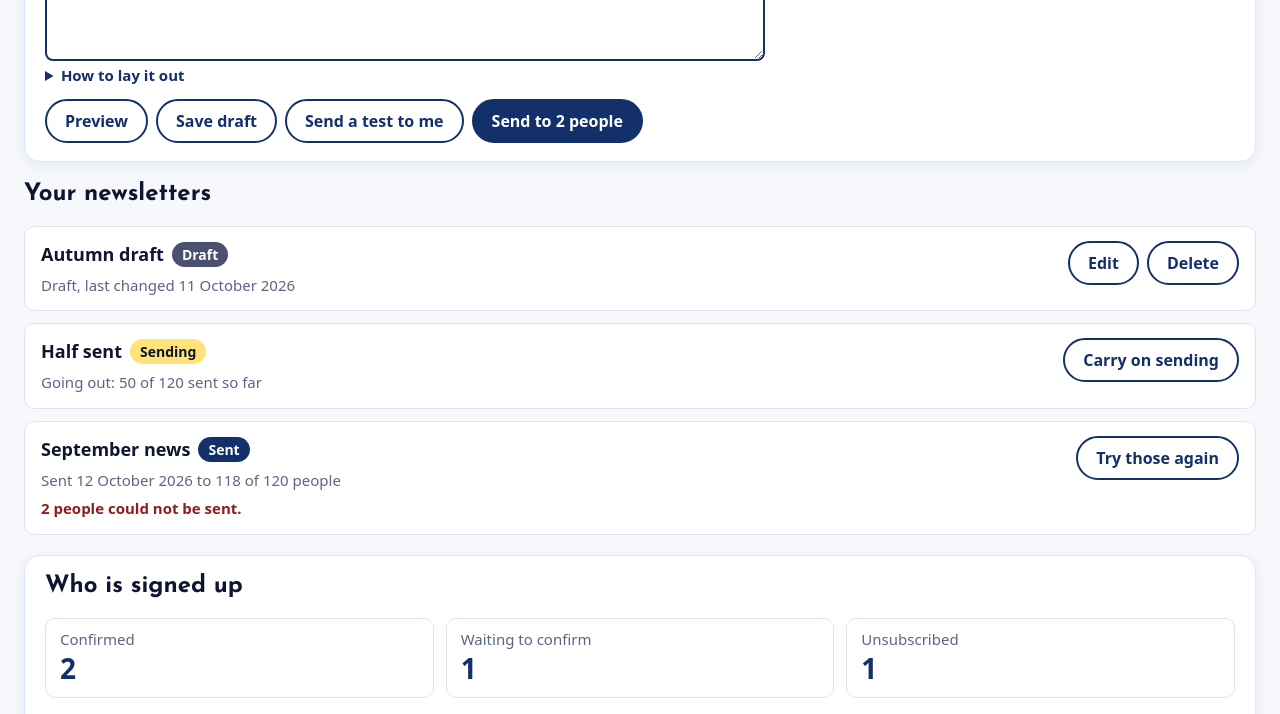
it: sending for real › carries on sending one that was interrupted, only after asking
The image size is (1280, 714).
(page scrolled)
Click the button with aria-label "Carry on sending Half sent" at (1151, 360), box [1063,338,1239,382]
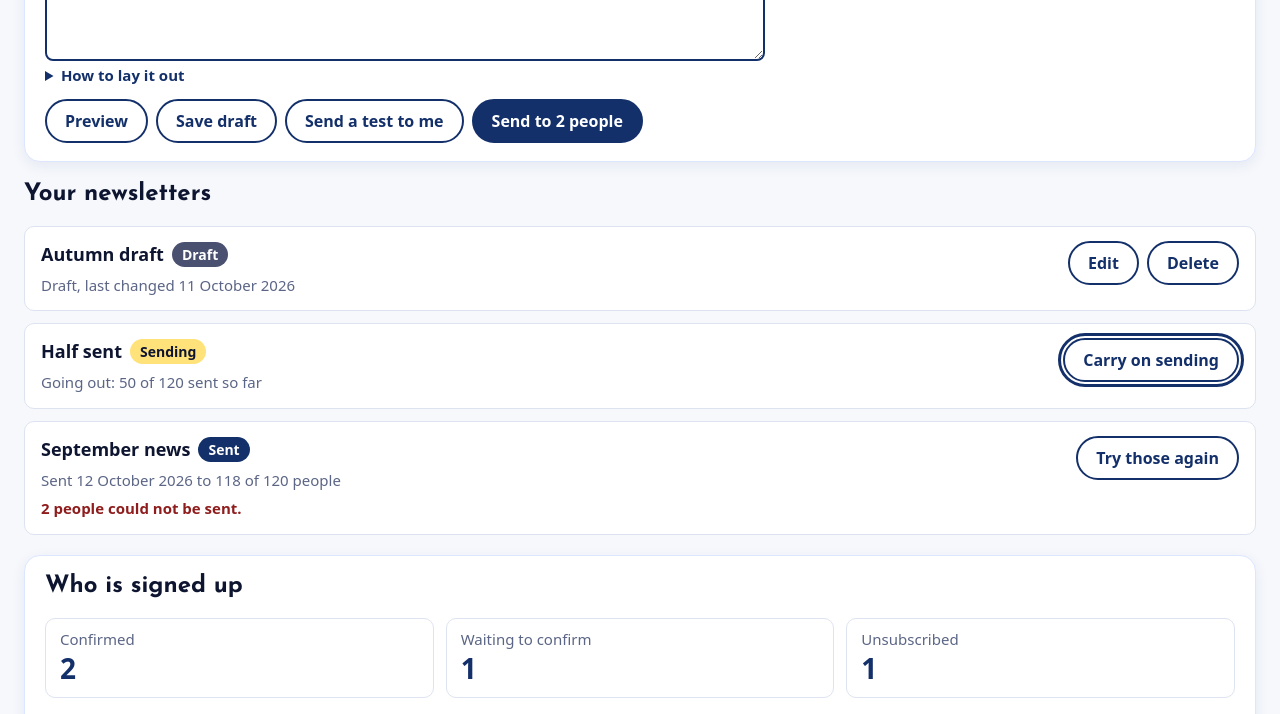
Click the button with aria-label "Carry on sending Half sent" at (1151, 360), box [1063,338,1239,382]
(page scrolled)
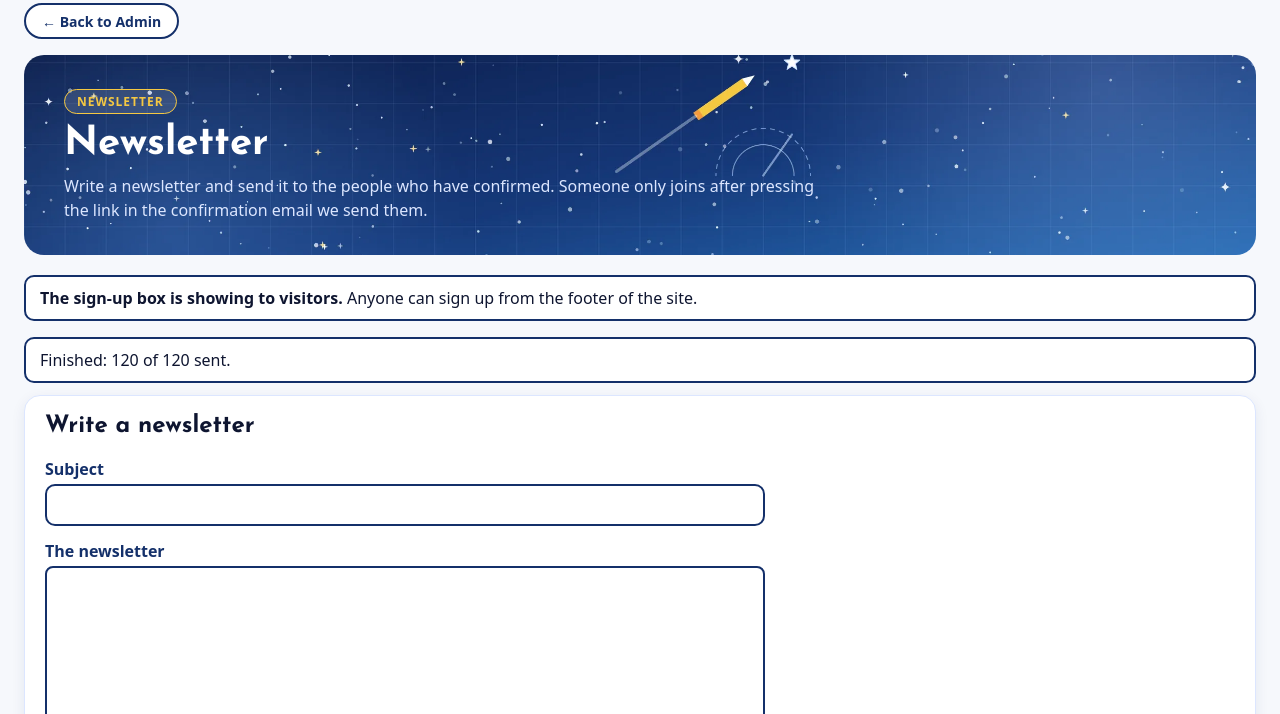
Expected: the text "Finished: 120 of 120 sent." is shown, [24,337,1256,383]
